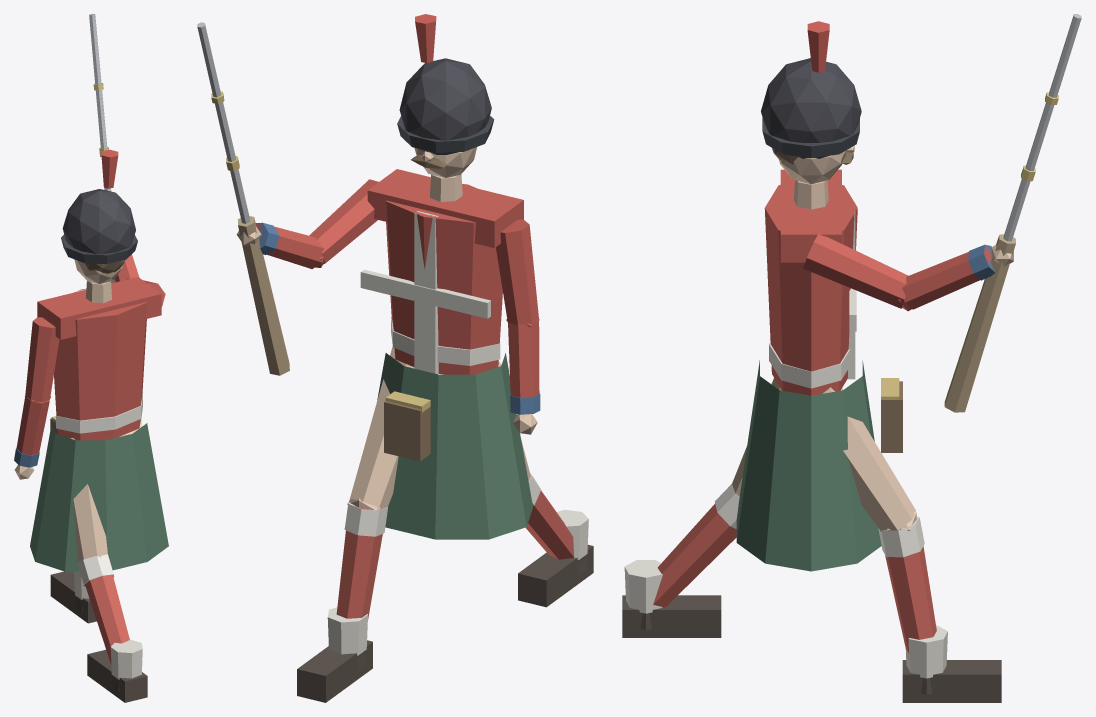
File: black_watch_shoulder_arms.glb
3 renders of one model, left to right at view 1: azimuth 30°, elevation 25°; view 2: azimuth 150°, elevation 25°; view 3: azimuth 270°, elevation 25°, orthographic. The views are drawn at different scales.
Visible parts, largest first — view 1: scarlet, tartan_g, feather, skin, boot, buff, hose_red, steel, tartan_k, hose_white, hackle, hair (+1 smaller); view 2: scarlet, tartan_g, buff, feather, skin, boot, hose_red, wood_lt, leather, steel, hose_white, tartan_k (+3 smaller); view 3: tartan_g, scarlet, boot, skin, hose_red, feather, buff, wood_lt, steel, hose_white, tartan_k, leather (+2 smaller).
Part boxes in pixels (<box>): scarlet: <box>16,254,165,455</box>; tartan_g: <box>30,423,168,571</box>; feather: <box>62,189,135,262</box>; skin: <box>14,259,141,561</box>; boot: <box>50,571,147,702</box>; buff: <box>56,289,142,679</box>; hose_red: <box>83,575,129,664</box>; steel: <box>89,14,111,191</box>; tartan_k: <box>61,234,137,264</box>; hose_white: <box>77,554,114,584</box>; hackle: <box>101,149,118,188</box>; hair: <box>85,260,125,273</box>; scarlet: <box>256,169,539,397</box>; tartan_g: <box>377,353,532,539</box>; buff: <box>327,211,588,655</box>; feather: <box>399,58,491,154</box>; skin: <box>236,147,537,510</box>; boot: <box>297,544,593,702</box>; hose_red: <box>336,490,574,619</box>; wood_lt: <box>237,216,289,375</box>; leather: <box>384,401,430,461</box>; steel: <box>197,22,249,223</box>; hose_white: <box>344,473,541,536</box>; tartan_k: <box>397,116,494,152</box>; tartan_g: <box>736,360,881,571</box>; scarlet: <box>764,169,991,395</box>; boot: <box>622,595,1001,702</box>; skin: <box>731,145,1013,531</box>; hose_red: <box>653,504,936,653</box>; feather: <box>761,58,861,158</box>; buff: <box>624,202,947,678</box>; wood_lt: <box>944,234,1015,412</box>; steel: <box>1003,14,1081,241</box>; hose_white: <box>714,484,924,557</box>; tartan_k: <box>762,118,859,158</box>; leather: <box>881,381,902,452</box>.
Size of the model in its own units: 0.7402 by 2.21 by 1.28.
